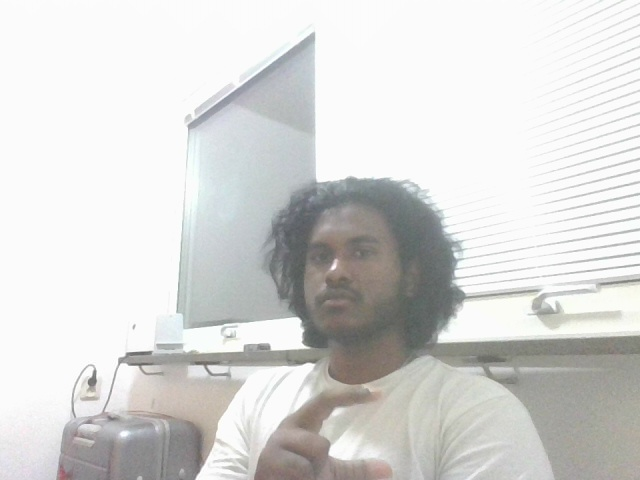no: (244, 376, 412, 480)
